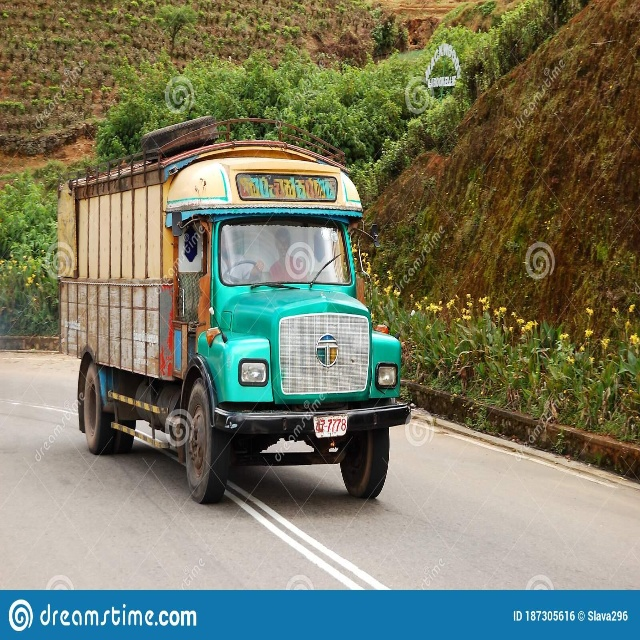Truck: (56, 115, 412, 505)
